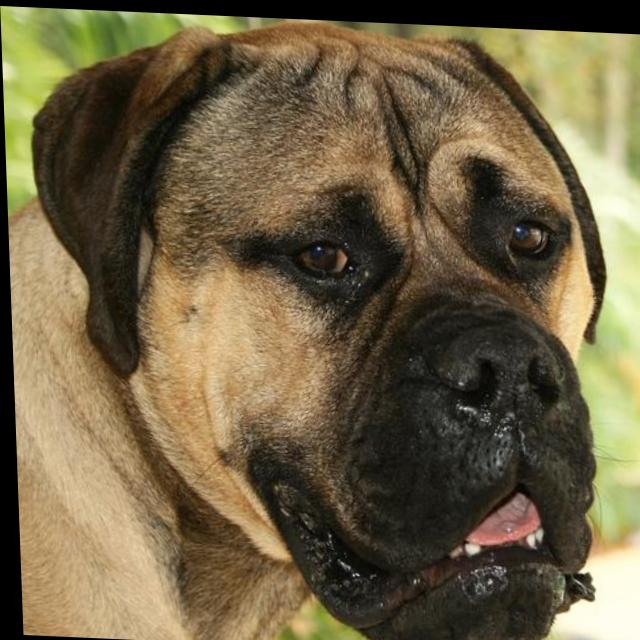bullmastiff: (2, 7, 619, 640)
